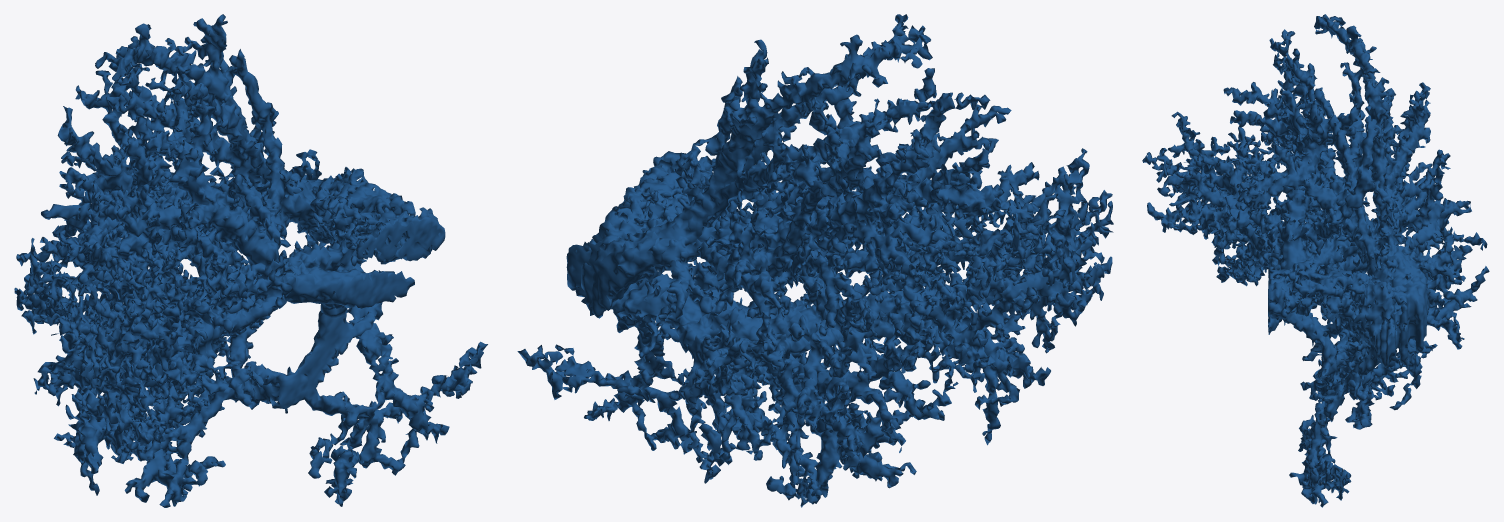
The model's file is 3DPX-001482.glb.
3 renders of one model, left to right at view 1: azimuth 30°, elevation 25°; view 2: azimuth 150°, elevation 25°; view 3: azimuth 270°, elevation 25°, orthographic. The views are drawn at different scales.
Visible parts, largest first — view 1: surface; view 2: surface; view 3: surface.
Boxes of the visible parts, x1,y1,x2,y2 form: surface: (14, 14, 487, 507); surface: (517, 14, 1113, 507); surface: (1142, 14, 1489, 507).
Bounding box in the file's own units: 179 × 178 × 138.
